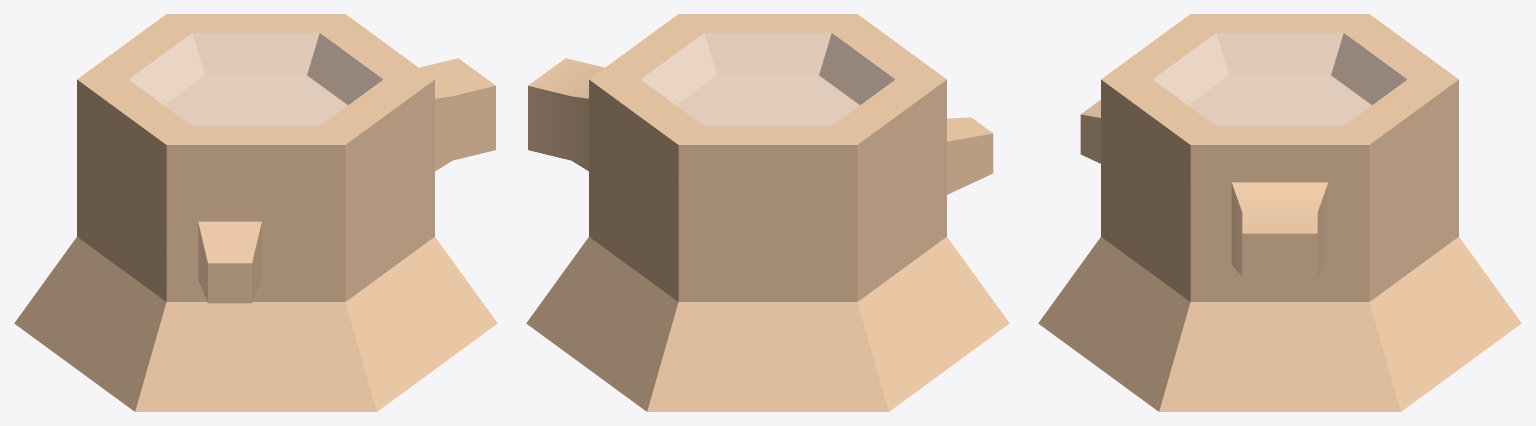
File: treeStump_round_side.glb
3 renders of one model, left to right at view 1: azimuth 30°, elevation 25°; view 2: azimuth 150°, elevation 25°; view 3: azimuth 270°, elevation 25°, orthographic.
Parts seen in each view (by area): view 1: treeStump_round_side; view 2: treeStump_round_side; view 3: treeStump_round_side.
Part boxes in pixels (x1,y1,x2,y2): treeStump_round_side: (14,14,497,411); treeStump_round_side: (526,14,1009,411); treeStump_round_side: (1038,14,1521,411).
Size of the model in its own units: 0.3565 by 0.2065 by 0.371.
